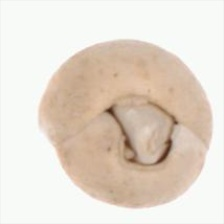L3: (101, 93, 183, 170)
L4: (38, 39, 214, 210)
